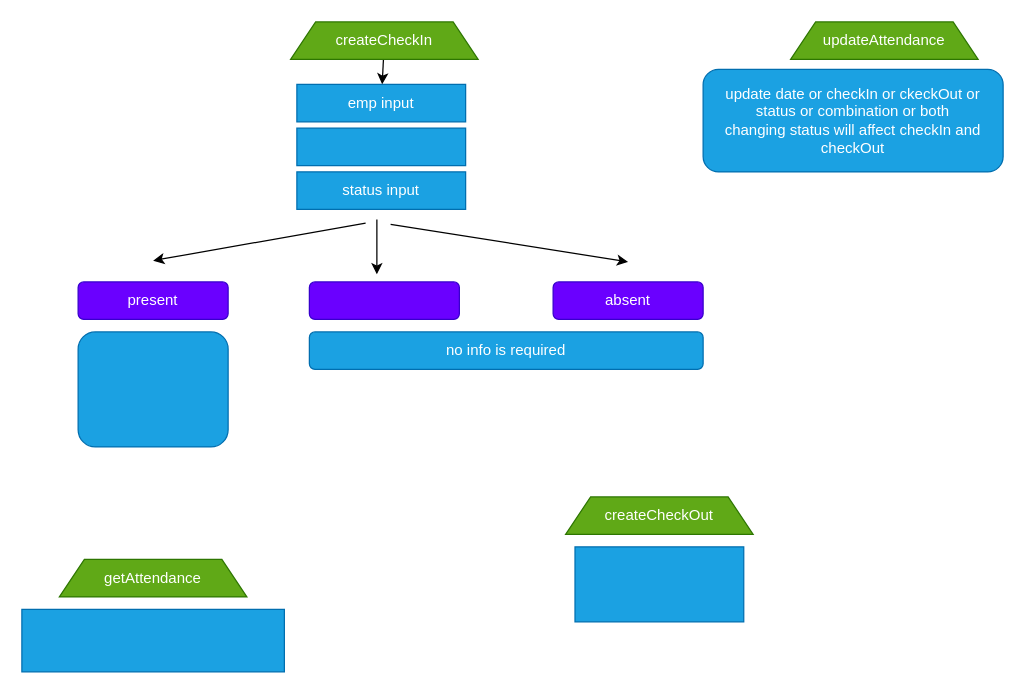
Image size: 1025x694. Some labels were removed from this diagram. Here are the shapes that lost their labels. From the top down, the centre of each, then its label:
At (381,146): "date input".
At (383,300): "leave on".
At (152,389): "another inputs (req): - checkIn calculated: - calc: late".
At (659,584): "checkout input to calculate overtime".
At (152,640): "pushing to query object to get them all or filter".
